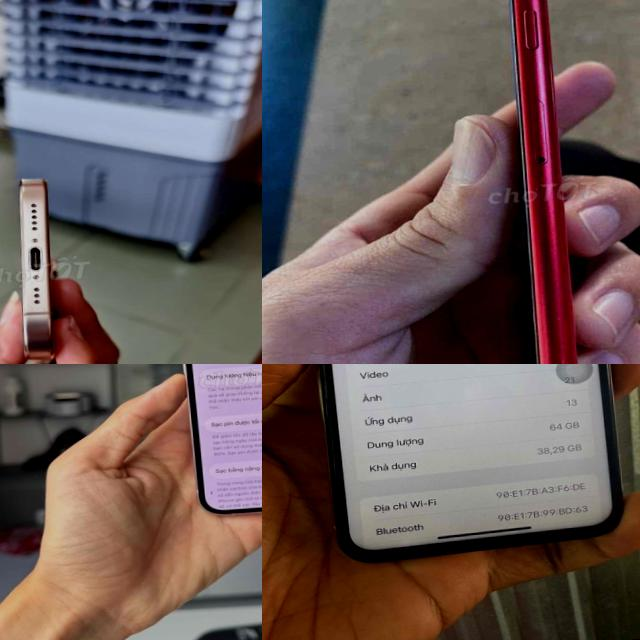gen_12_13: (167, 364, 262, 523)
gen_16: (20, 179, 54, 362)
gen_7_8: (487, 0, 592, 364)
gen_x_xs: (289, 364, 640, 569)
scratch: (549, 303, 567, 364)
